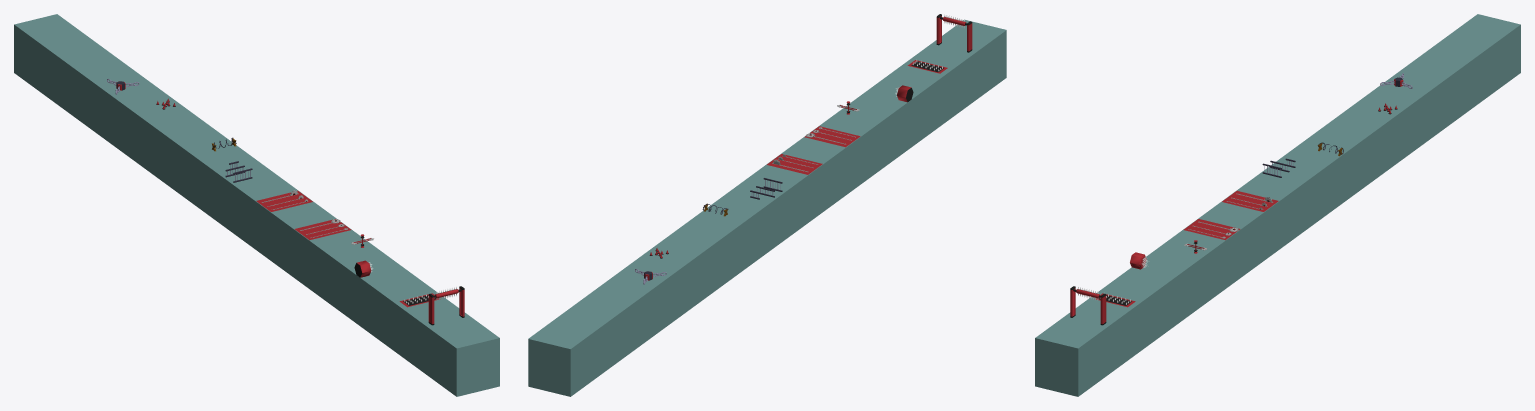
Rendered from ObstacleModels.fbx.
The picture shows the model from 3 angles, left to right: view 1: azimuth 30°, elevation 25°; view 2: azimuth 150°, elevation 25°; view 3: azimuth 330°, elevation 25°; orthographic projection.
Visible parts, largest first — view 1: Parkur; view 2: Parkur; view 3: Parkur.
Boxes of the visible parts, x1,y1,x2,y2 form: Parkur: [14, 14, 499, 396]; Parkur: [528, 19, 1006, 396]; Parkur: [1035, 14, 1520, 396].
Bounding box in the file's own units: 415 × 705 × 7076.
